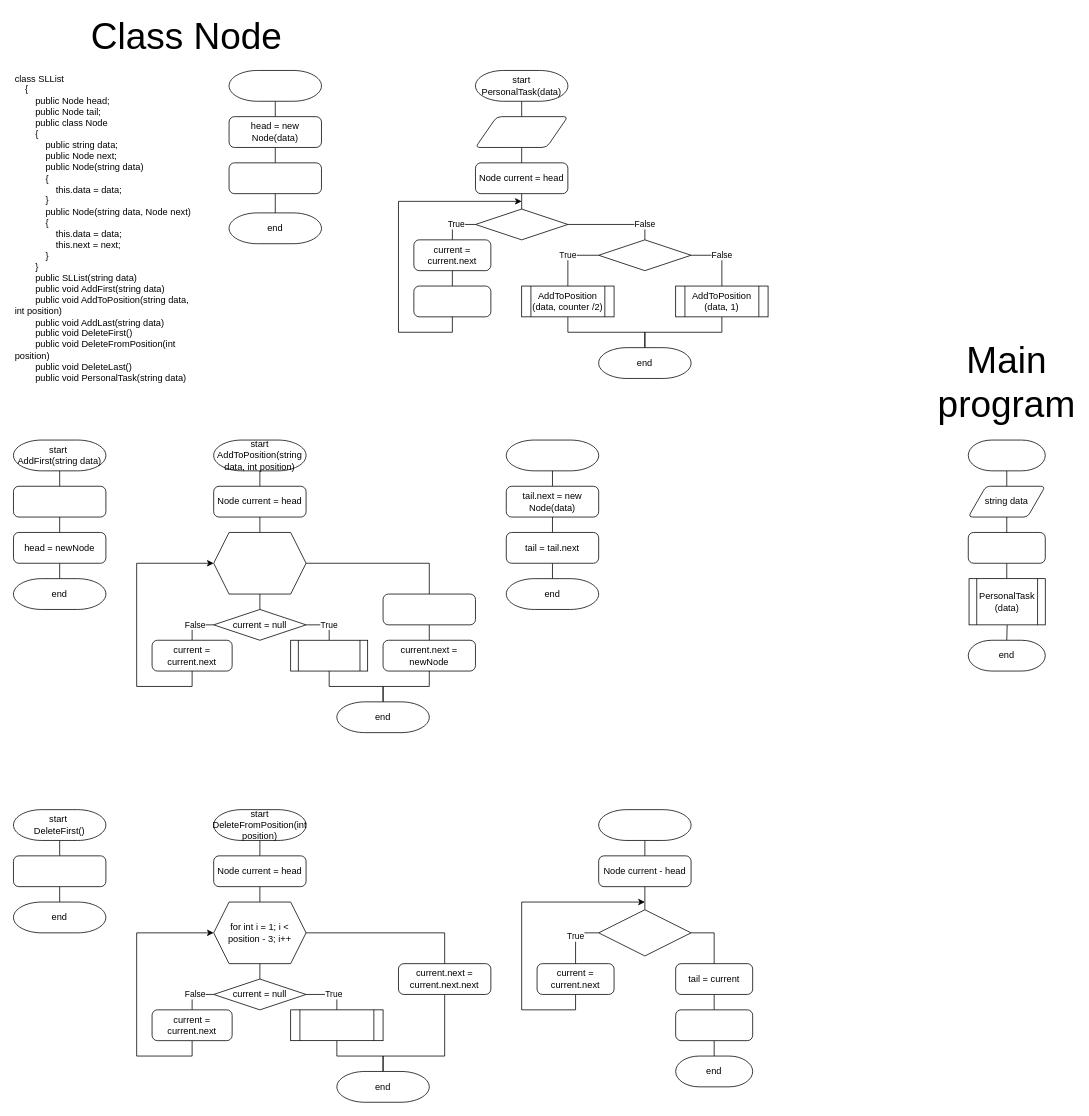
Image size: 1089x1116. Some labels were removed from this diagram. The box of each missing label's shape, as (x1, y1, x2, y2) in pixels:
AddFirst(data): (290, 639, 368, 671)
counter % 2 = 0: (598, 239, 691, 271)
counter++: (413, 285, 491, 317)
current != null: (475, 208, 568, 240)
current.next.next != null: (598, 909, 691, 956)
DeleteFirst(data): (290, 1009, 383, 1041)
for int i = 1; i < position - 1; i++: (213, 532, 306, 594)
head = head.next: (13, 855, 106, 887)
int counter = 0: (475, 116, 568, 147)
Node newNode = new Node(data, current.next): (382, 593, 475, 625)
Node newNode = new Node(data, head): (13, 485, 106, 517)
Node node = new SLList("0"): (968, 532, 1045, 563)
start: (968, 439, 1045, 471)
start AddLast(string data): (506, 439, 599, 471)
start DeleteLast(): (598, 809, 691, 840)
start SLList(string data): (228, 70, 321, 101)
tail = head: (228, 162, 321, 194)
tail.next = null: (675, 1009, 753, 1041)
